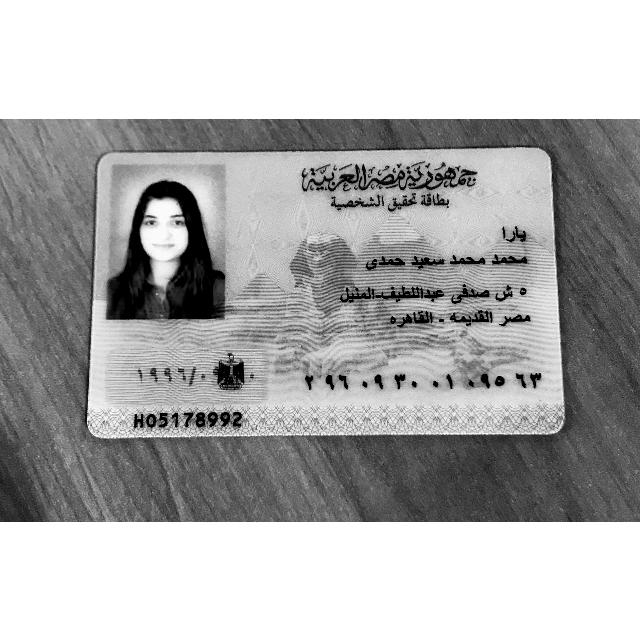id_card: (101, 155, 563, 433)
